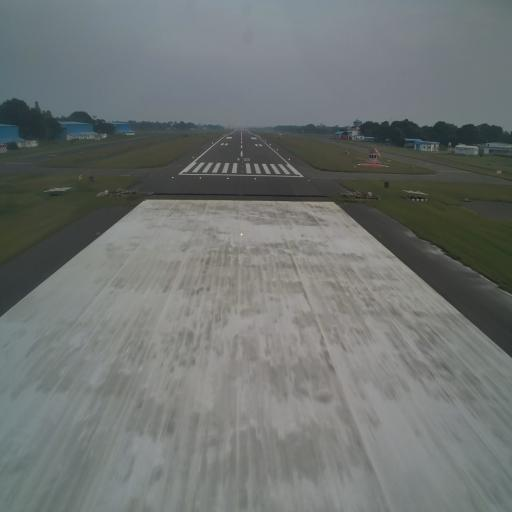off: (94, 229, 102, 237), (377, 231, 384, 239)
on: (239, 232, 245, 240)
